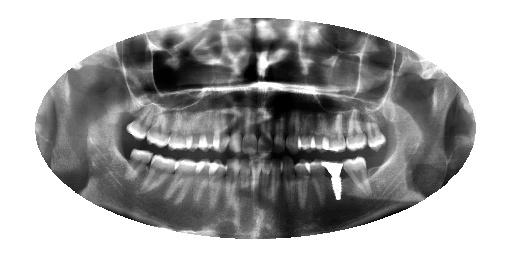i10healthy: (236, 154, 251, 206)
i11healthy: (222, 153, 243, 205)
i12healthy: (204, 157, 227, 211)
i13healthy: (192, 159, 214, 205)
i14healthy: (161, 154, 205, 209)
i15healthy: (134, 147, 178, 205)
i16loss: (121, 143, 153, 185)
i1loss: (363, 151, 393, 191)
i2healthy: (341, 154, 374, 198)
i3loss: (320, 155, 349, 203)
i4healthy: (304, 158, 329, 203)
i5healthy: (290, 157, 311, 210)
i6healthy: (278, 155, 297, 209)
i7healthy: (267, 155, 284, 214)
i8healthy: (259, 155, 273, 205)
i9healthy: (245, 154, 264, 203)
u10healthy: (227, 104, 245, 155)
u11healthy: (211, 105, 232, 158)
u12healthy: (195, 108, 220, 156)
u13healthy: (182, 101, 210, 156)
u14healthy: (166, 103, 195, 155)
u15healthy: (146, 102, 175, 150)
u16healthy: (122, 98, 158, 142)
u1healthy: (362, 106, 388, 152)
u2healthy: (343, 102, 370, 154)
u3healthy: (322, 111, 350, 152)
u4healthy: (308, 110, 330, 153)
u5healthy: (294, 108, 318, 151)
u6healthy: (283, 105, 304, 155)
u7decay: (272, 109, 288, 153)
u8decay: (254, 107, 274, 157)
u9decay: (240, 98, 260, 158)
